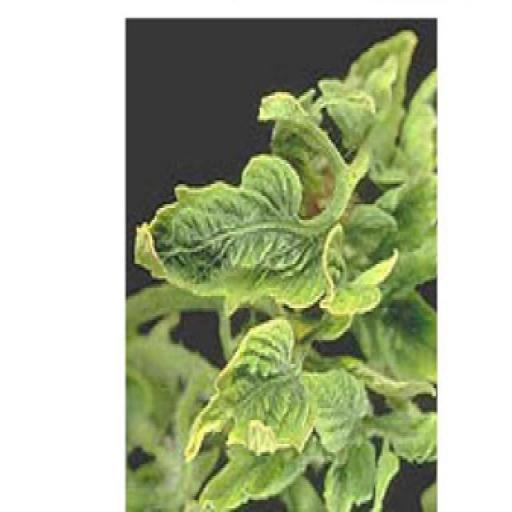disease_tomato: (128, 149, 329, 311), (180, 316, 312, 461)
